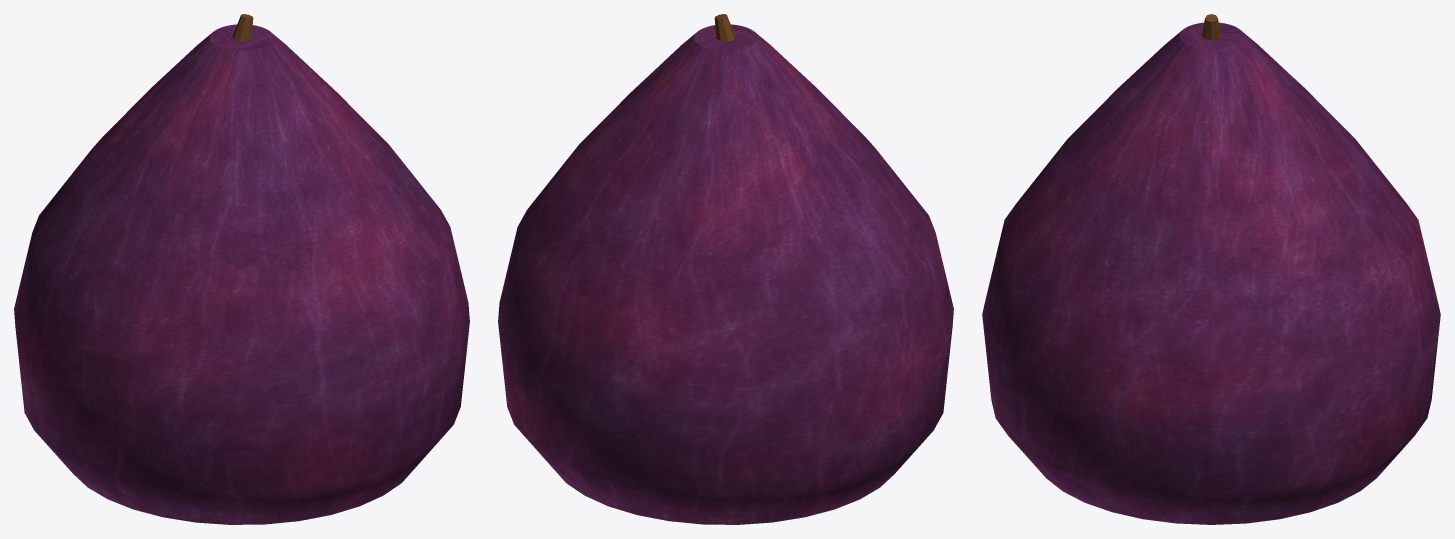
File: fig-BVMM9VGh.glb
3 renders of one model, left to right at view 1: azimuth 30°, elevation 25°; view 2: azimuth 150°, elevation 25°; view 3: azimuth 270°, elevation 25°, orthographic.
Parts seen in each view (by area): view 1: FLC_fig; view 2: FLC_fig; view 3: FLC_fig.
Boxes of the visible parts, x1,y1,x2,y2 form: FLC_fig: [14, 14, 469, 524]; FLC_fig: [498, 14, 953, 524]; FLC_fig: [982, 14, 1440, 524].
Bounding box in the file's own units: 3.2 × 3.47 × 3.2.
Materials: 2 (1 with a texture image).
